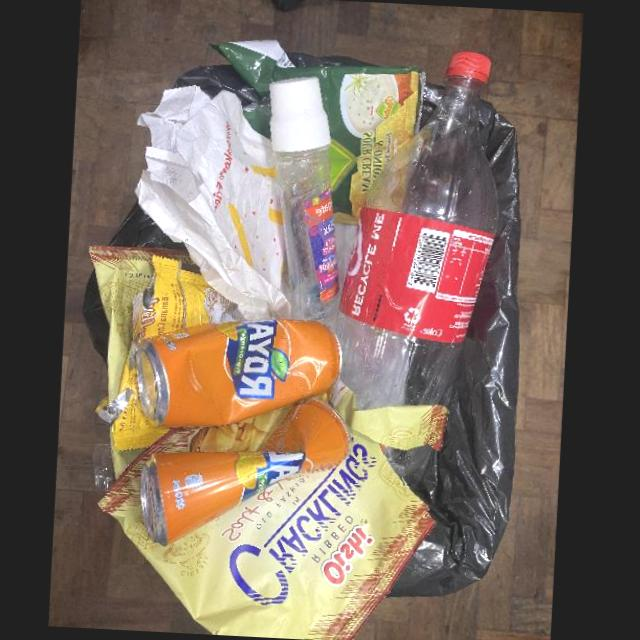bao_bi_thuc_pham: (96, 379, 450, 640), (211, 39, 426, 225), (90, 247, 246, 480), (93, 256, 211, 449)
chai_nhua: (269, 78, 340, 321)
chai_nhua_pet: (335, 55, 498, 408)
giay: (133, 85, 288, 320)
nhom: (140, 398, 351, 547), (132, 321, 341, 430)
